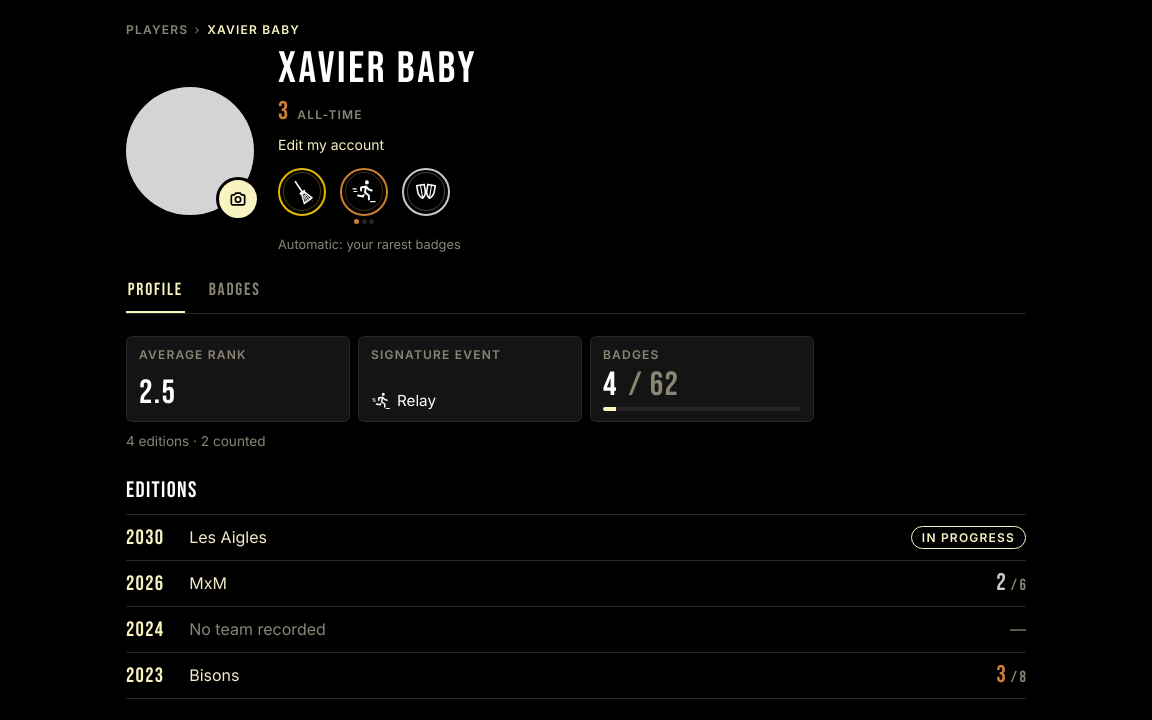
Test: player profile page › owner view: the photo › gives the owner a camera button on the header avatar, opening the photo editor
The image size is (1152, 720).
Click the button named "Change my photo" at point(238, 199), box [216, 177, 260, 221]
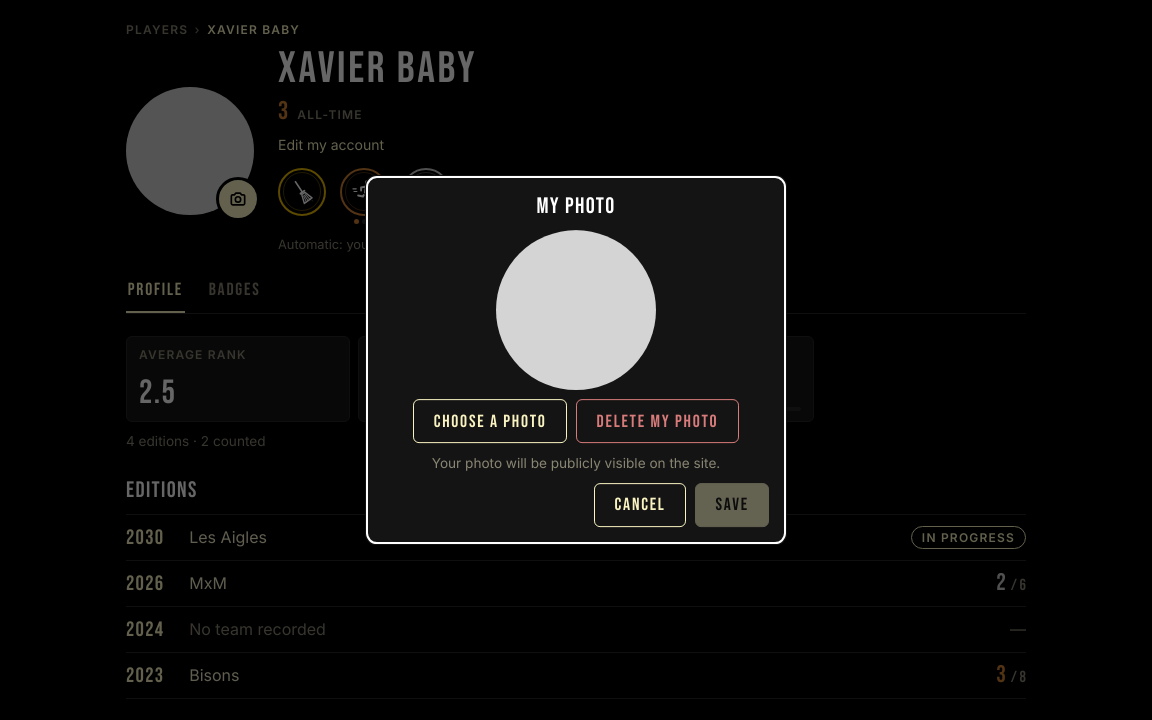
Now the dialog "My photo" shows "Your photo will be publicly visible on the site.", box [432, 455, 720, 471]
Now the button "Delete my photo" is shown, box [576, 399, 738, 443]
Now the file field labelled "Choose a photo" is shown, box [414, 399, 567, 443]
Click the button "Cancel" at point(640, 505), box [594, 483, 686, 527]
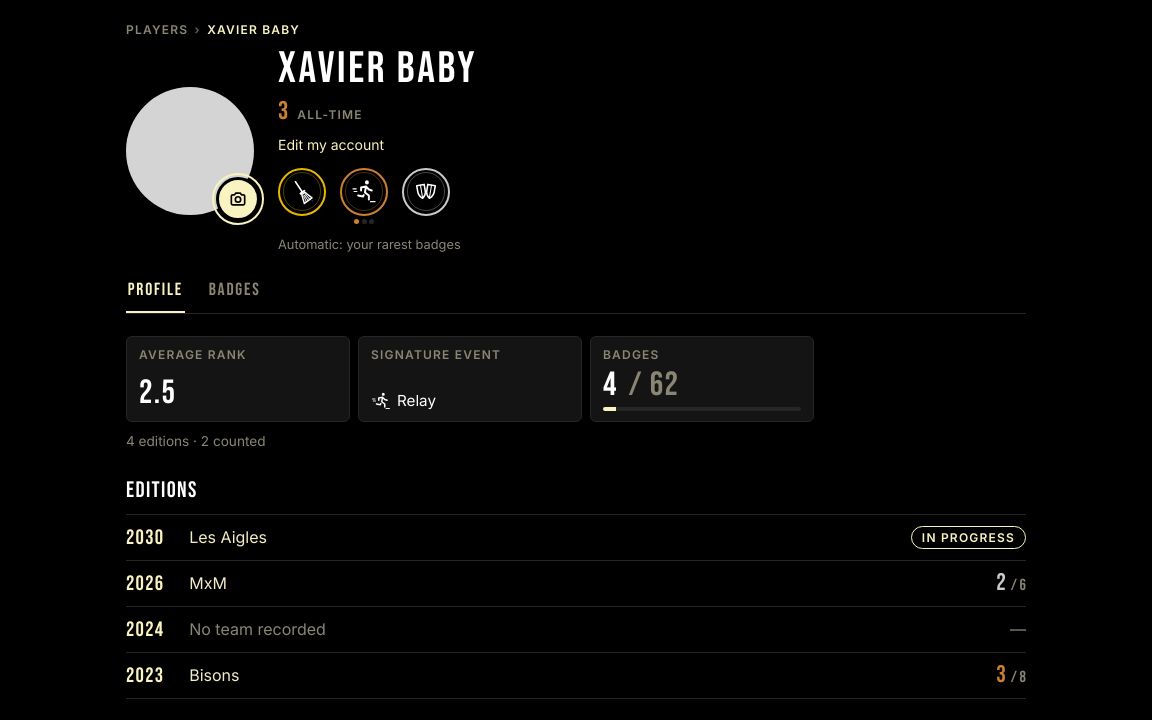
Now the dialog is gone
